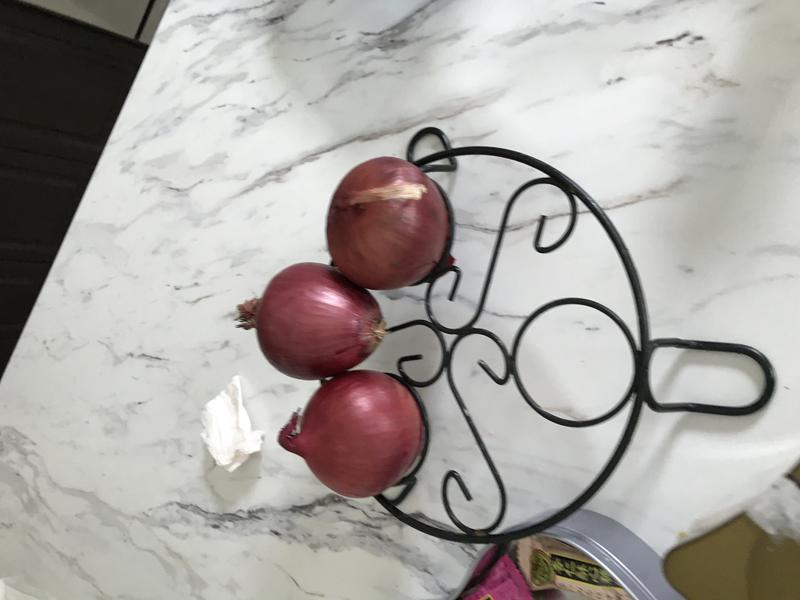purple_onion: (272, 362, 434, 509), (233, 261, 404, 385), (320, 149, 454, 294)
